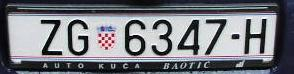-: (231, 34, 239, 39)
3: (152, 19, 172, 55)
4: (178, 19, 200, 56)
6: (124, 19, 146, 56)
7: (206, 18, 226, 55)
G: (67, 20, 89, 55)
H: (244, 18, 265, 55)
Z: (40, 19, 64, 55)
